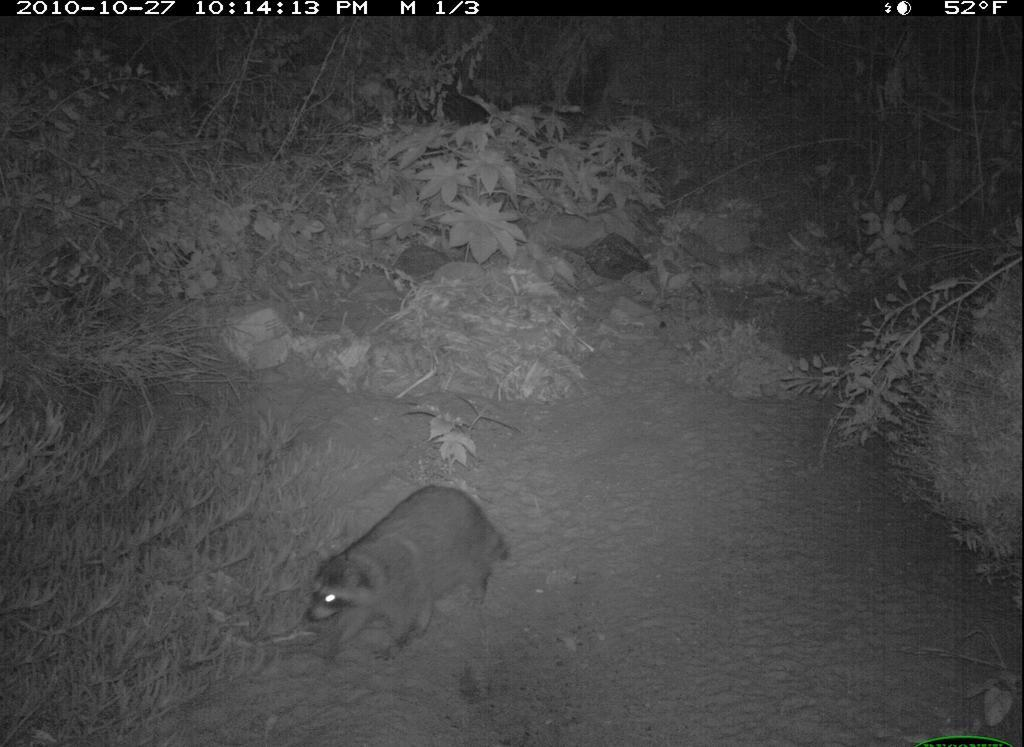raccoon: (278, 483, 527, 673)
